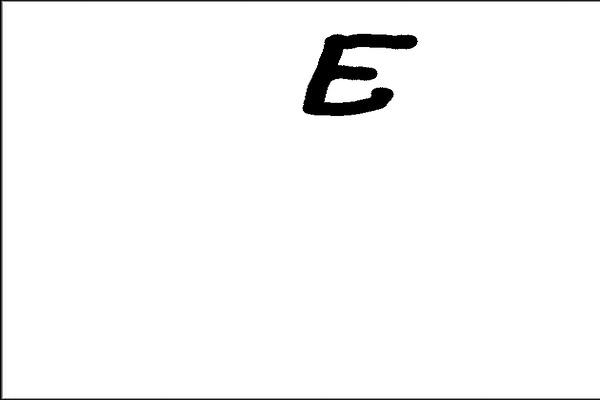E: (297, 28, 417, 119)
